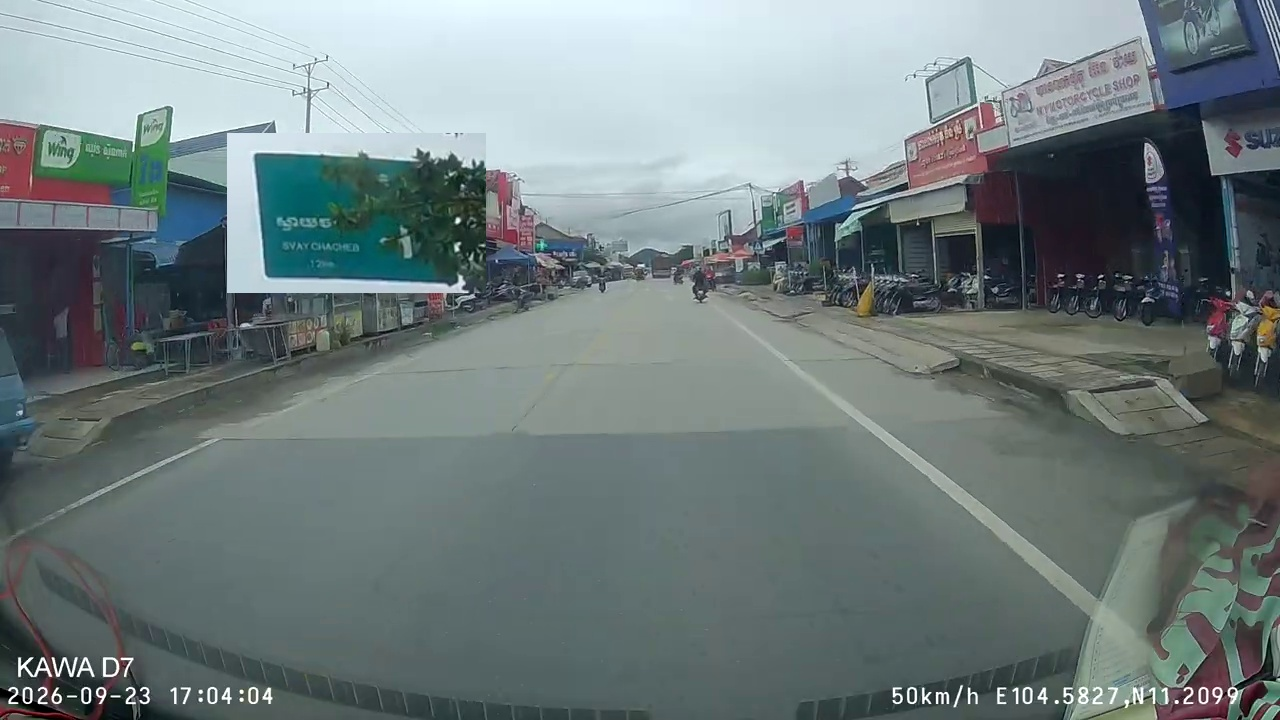direction_sign: (227, 133, 486, 293)
